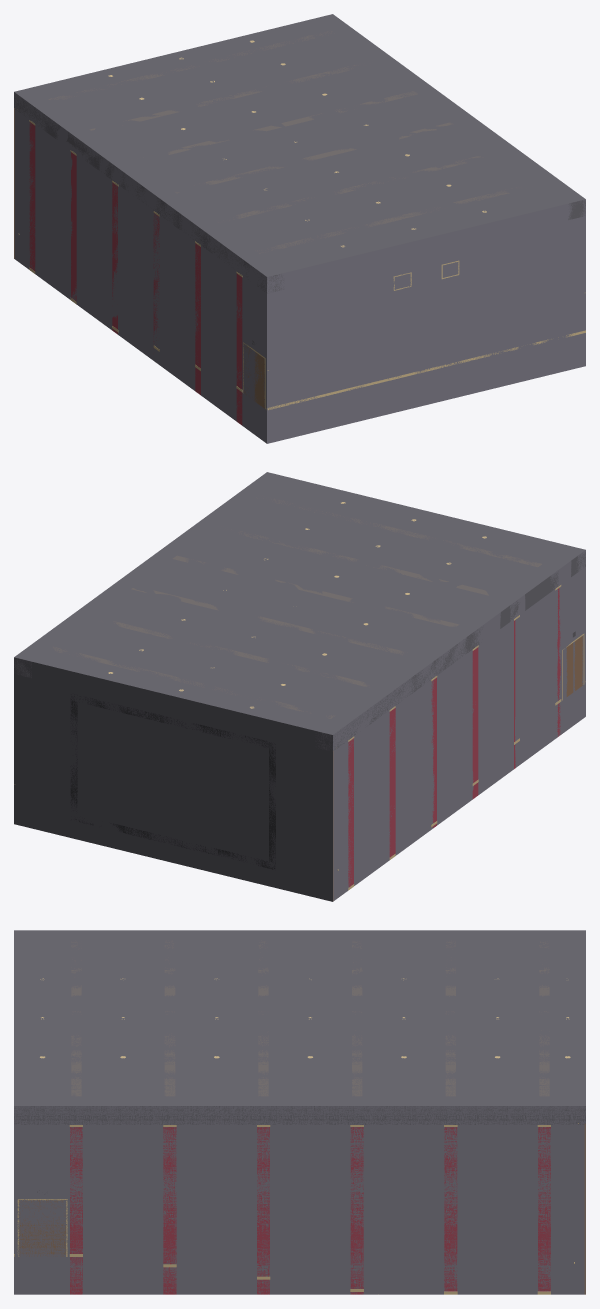
File: ambient-cinema.glb
3 renders of one model, top to bottom at view 1: azimuth 30°, elevation 25°; view 2: azimuth 150°, elevation 25°; view 3: azimuth 270°, elevation 25°, orthographic. The views are drawn at different scales.
Visible parts, largest first — view 1: Room_wall_base, Room_ceiling_base, Room_ceiling, Room_curtain, Room_beam, Room_brass, Room_door; view 2: Room_ceiling_base, Room_front_fabric, Room_wall_base, Room_ceiling, Room_beam, Room_curtain, Room_black_velvet, Room_door, Room_brass; view 3: Room_wall_base, Room_ceiling_base, Room_ceiling, Room_curtain, Room_beam, Room_door, Room_brass.
Part boxes in pixels (<box>): Room_wall_base: <box>14,92,585,443</box>; Room_ceiling_base: <box>14,15,584,276</box>; Room_ceiling: <box>14,14,585,293</box>; Room_curtain: <box>29,122,242,425</box>; Room_beam: <box>48,31,516,253</box>; Room_brass: <box>17,40,585,410</box>; Room_door: <box>244,344,264,408</box>; Room_ceiling_base: <box>17,472,584,734</box>; Room_front_fabric: <box>14,657,332,901</box>; Room_wall_base: <box>333,550,585,901</box>; Room_ceiling: <box>14,472,585,751</box>; Room_beam: <box>53,497,541,718</box>; Room_curtain: <box>348,588,560,886</box>; Room_black_velvet: <box>70,694,275,869</box>; Room_door: <box>566,636,583,696</box>; Room_brass: <box>14,502,585,890</box>; Room_wall_base: <box>14,1106,585,1294</box>; Room_ceiling_base: <box>14,930,585,1105</box>; Room_ceiling: <box>14,930,585,1124</box>; Room_curtain: <box>70,1127,550,1294</box>; Room_beam: <box>71,940,549,1096</box>; Room_door: <box>19,1200,65,1256</box>; Room_brass: <box>14,978,578,1294</box>.
Size of the model in its own units: 16.04 by 8 by 22.
